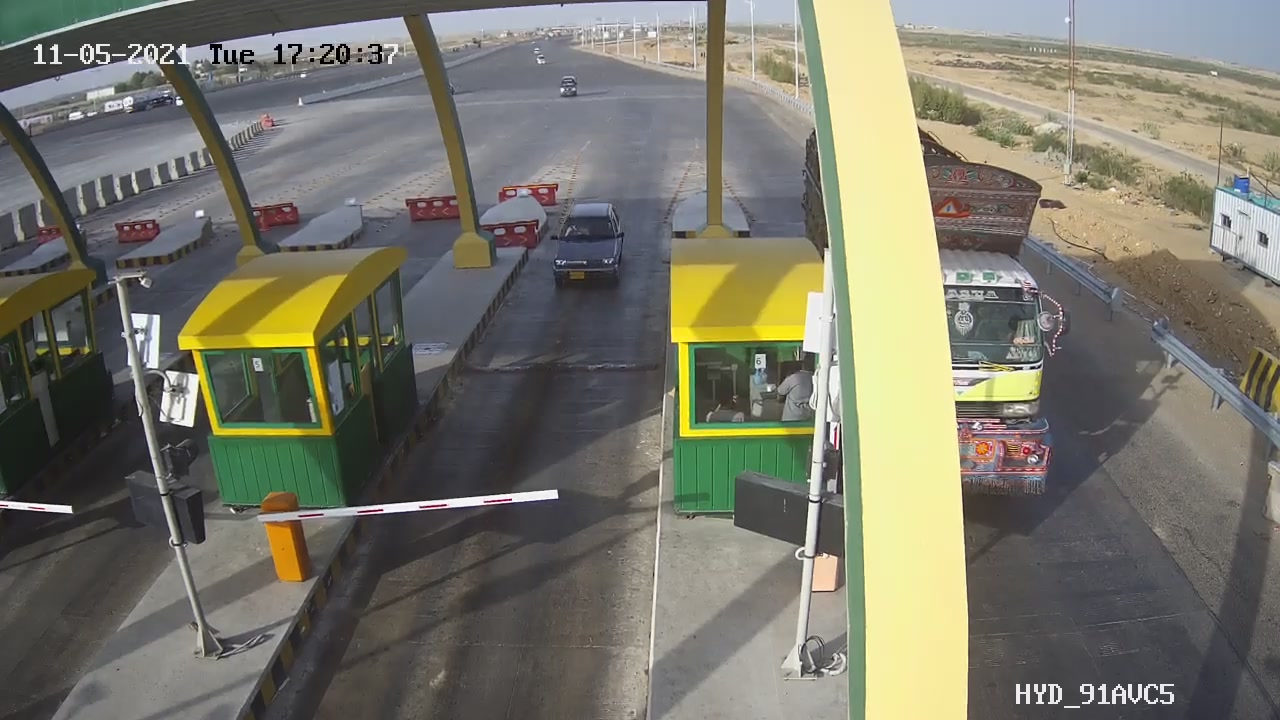F1: (540, 190, 638, 299)
